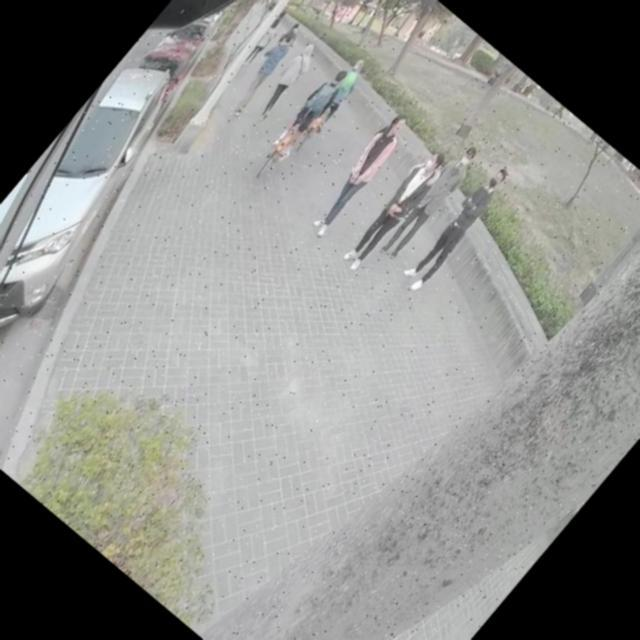person: (330, 140, 458, 283), (302, 105, 421, 240), (401, 162, 515, 292), (376, 140, 484, 263), (257, 60, 355, 170), (298, 51, 378, 140), (224, 28, 302, 116), (250, 40, 322, 122), (246, 17, 288, 65), (284, 20, 304, 40)
